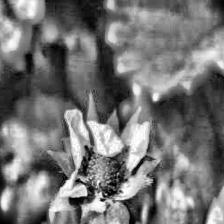Blossom Blight: (73, 142, 134, 204)
